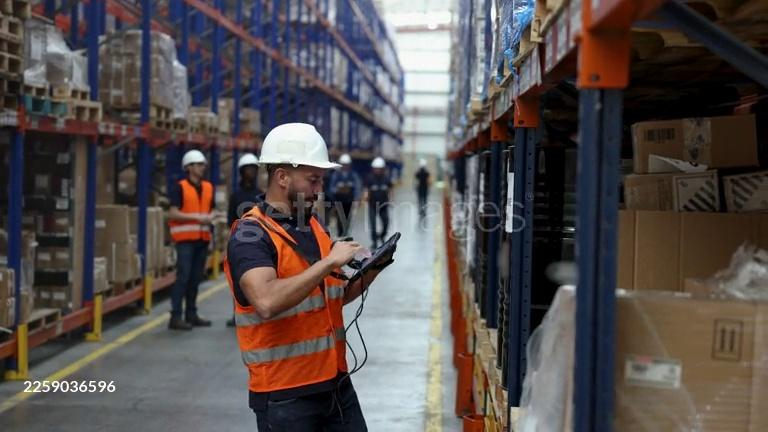helmet: (257, 122, 344, 172), (180, 150, 212, 168), (238, 153, 259, 168), (370, 157, 387, 168), (335, 154, 353, 164)
person: (225, 122, 396, 427), (166, 150, 221, 332), (226, 152, 263, 329), (359, 158, 400, 246), (322, 154, 360, 240), (413, 165, 430, 208)
